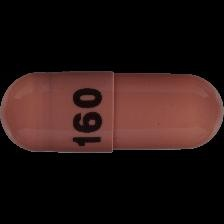55700-121: (0, 0, 224, 224)
